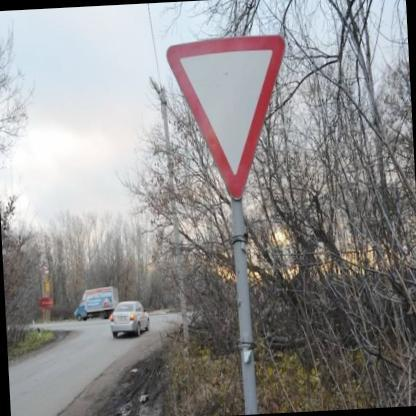road_sign: (165, 35, 286, 200)
